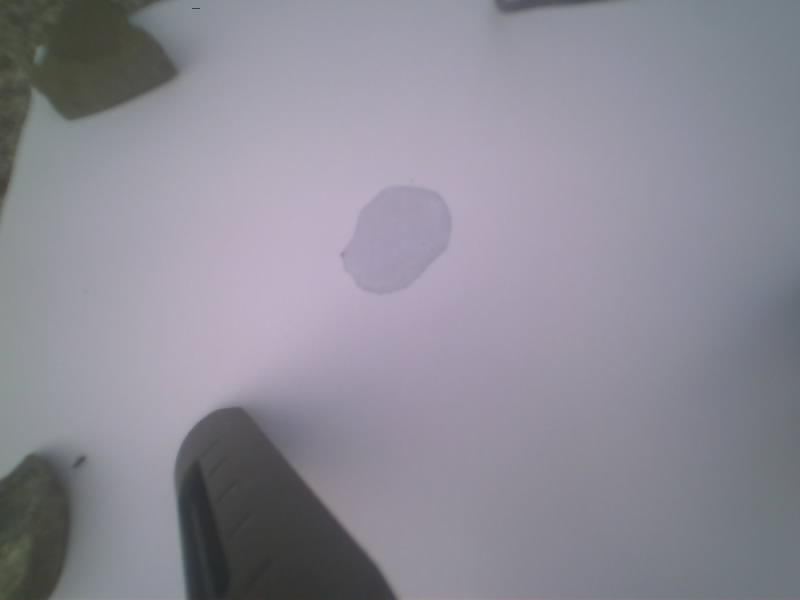Ant: (71, 454, 87, 470)
